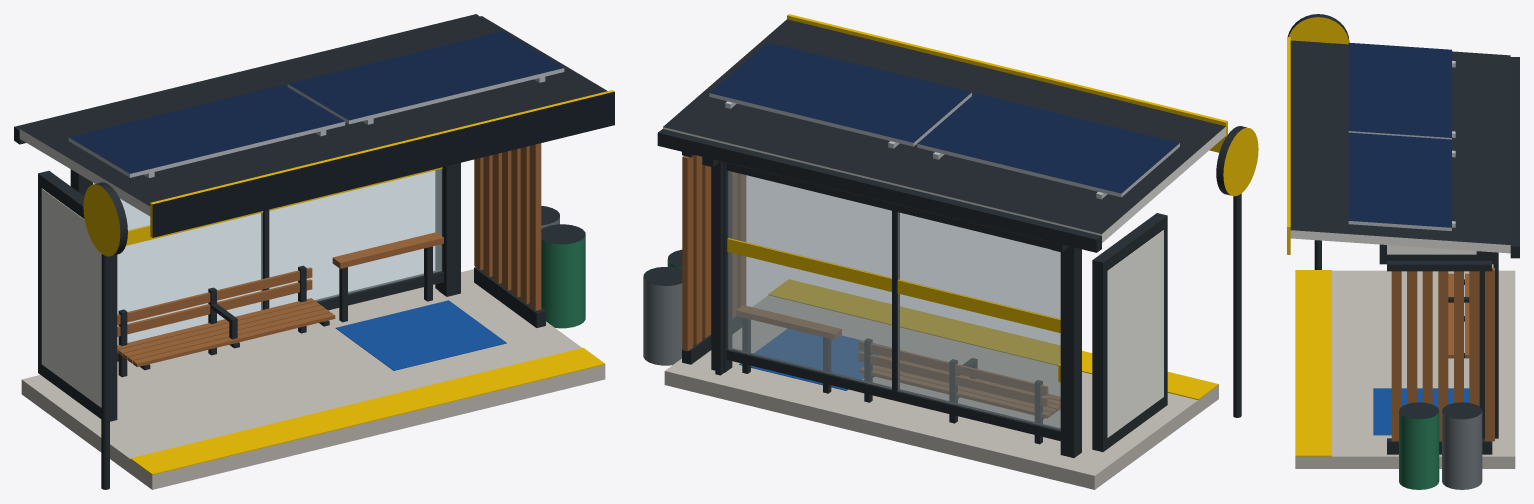
The model's file is caseta-lzc.glb.
3 views of the same model, side by side, from view 1: azimuth 30°, elevation 25°; view 2: azimuth 150°, elevation 25°; view 3: azimuth 270°, elevation 25° (orthographic). The views are drawn at different scales.
Visible parts, largest first — view 1: LZC_Grafito, LZC_Concreto, LZC_Cristal, LZC_Panel_Solar, LZC_Madera, LZC_Letrero, LZC_Mapa, LZC_Tactil, LZC_ISA, LZC_Bote_Organico, LZC_Aluminio, LZC_Acento (+2 smaller); view 2: LZC_Grafito, LZC_Cristal, LZC_Concreto, LZC_Panel_Solar, LZC_Madera, LZC_Mapa, LZC_Acento, LZC_Tactil, LZC_Bote_Inorganico, LZC_ISA, LZC_Aluminio, LZC_Plafon (+1 smaller); view 3: LZC_Grafito, LZC_Panel_Solar, LZC_Concreto, LZC_Madera, LZC_Tactil, LZC_Bote_Inorganico, LZC_Bote_Organico, LZC_Plafon, LZC_ISA, LZC_Disco, LZC_Acento, LZC_Aluminio (+1 smaller).
Boxes of the visible parts, <box> form: LZC_Grafito: <box>14,14,607,489</box>; LZC_Concreto: <box>21,269,605,489</box>; LZC_Cristal: <box>93,169,441,344</box>; LZC_Panel_Solar: <box>69,31,563,173</box>; LZC_Madera: <box>117,143,541,366</box>; LZC_Letrero: <box>152,91,614,237</box>; LZC_Mapa: <box>41,188,101,407</box>; LZC_Tactil: <box>130,347,605,474</box>; LZC_ISA: <box>335,300,506,370</box>; LZC_Bote_Organico: <box>541,236,585,328</box>; LZC_Aluminio: <box>68,68,564,177</box>; LZC_Acento: <box>126,90,614,245</box>; LZC_Grafito: <box>643,19,1246,457</box>; LZC_Cristal: <box>728,171,1060,429</box>; LZC_Concreto: <box>664,295,1218,489</box>; LZC_Panel_Solar: <box>710,42,1179,193</box>; LZC_Madera: <box>682,155,1060,418</box>; LZC_Mapa: <box>1107,230,1163,437</box>; LZC_Acento: <box>727,14,1227,382</box>; LZC_Tactil: <box>768,279,1218,399</box>; LZC_Bote_Inorganico: <box>643,278,682,365</box>; LZC_ISA: <box>739,329,889,390</box>; LZC_Aluminio: <box>709,92,1179,199</box>; LZC_Plafon: <box>663,127,1225,242</box>; LZC_Grafito: <box>1287,14,1519,454</box>; LZC_Panel_Solar: <box>1348,42,1451,227</box>; LZC_Concreto: <box>1295,270,1515,468</box>; LZC_Madera: <box>1391,268,1494,441</box>; LZC_Tactil: <box>1295,270,1331,456</box>; LZC_Bote_Inorganico: <box>1442,411,1482,489</box>; LZC_Bote_Organico: <box>1399,411,1439,489</box>; LZC_Plafon: <box>1290,230,1510,253</box>; LZC_ISA: <box>1373,388,1469,435</box>; LZC_Disco: <box>1289,17,1348,44</box>; LZC_Acento: <box>1287,37,1290,254</box>; LZC_Aluminio: <box>1348,61,1455,230</box>.
Bounding box in the file's own units: 5.73 × 3.06 × 2.54.
